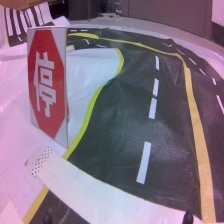stop: (25, 25, 71, 145)
